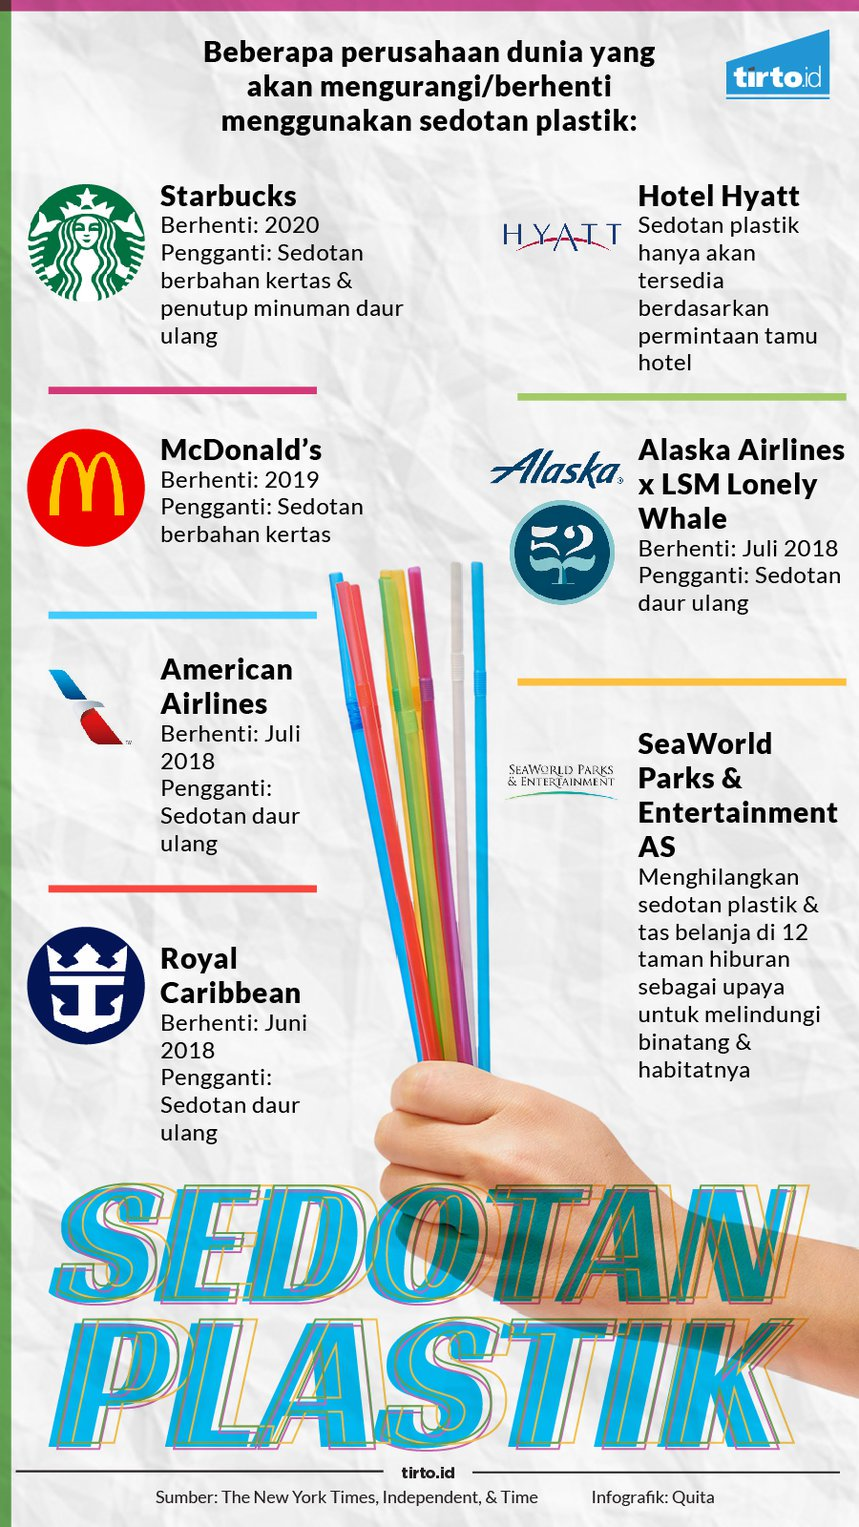PP: (326, 573, 414, 1061), (464, 554, 500, 1070), (445, 559, 475, 962)
